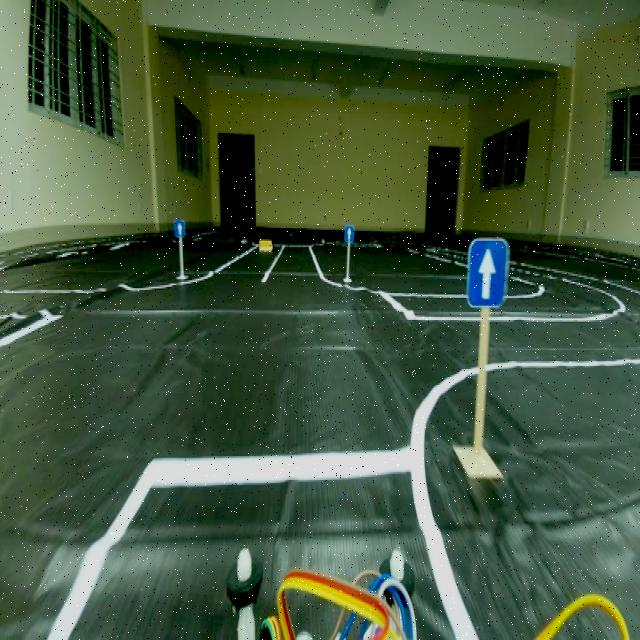onewayroad: (464, 232, 512, 316), (343, 220, 354, 246), (171, 217, 186, 236)
roadblock: (256, 240, 275, 254)
